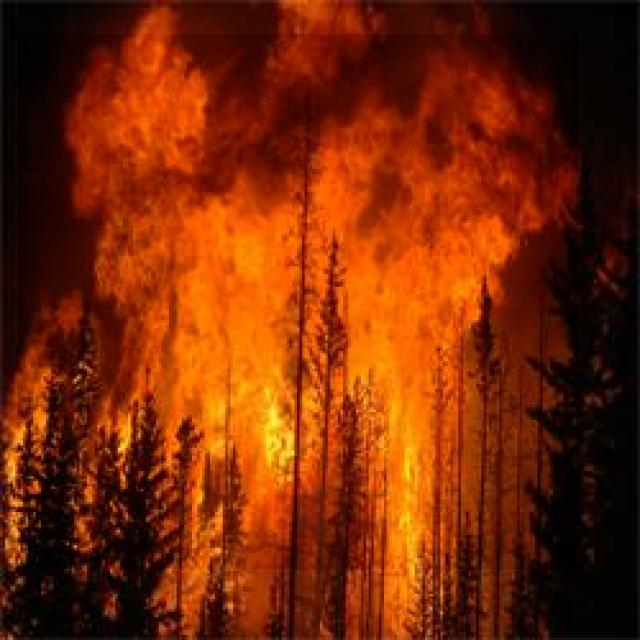Fire: (17, 34, 578, 569)
